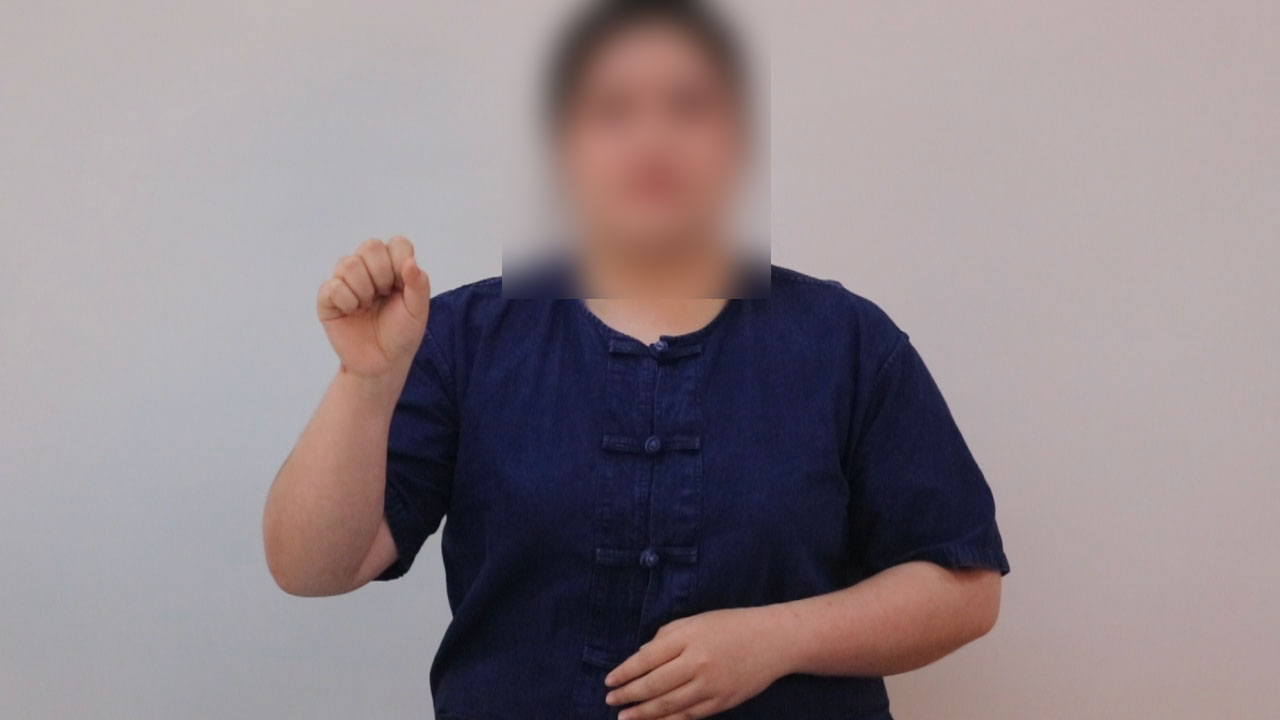sor: (299, 221, 451, 382)
